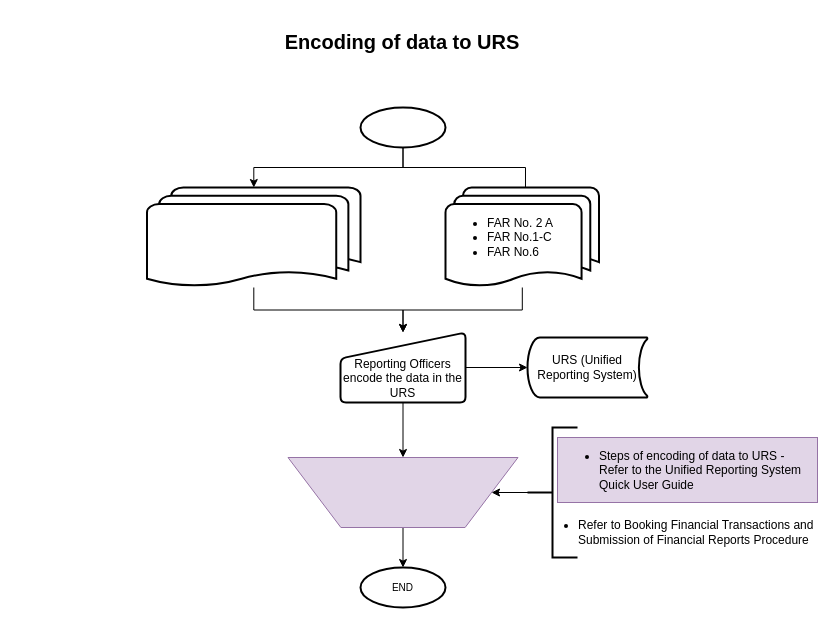
The diagram is 835 pixels wide and 625 high, and some of its shapes have lost their labels. Here are the shapes that lost their labels. From the top down, the centre of each, then its label:
At point 402,127: "START".
At point 253,237: "Financial Accountability Reports(FAR) - FAR No.1 FAR No. 1 A FAR No. 1 B".
At point 402,492: "Informs Accounting Office to complete data needed in the URS".
